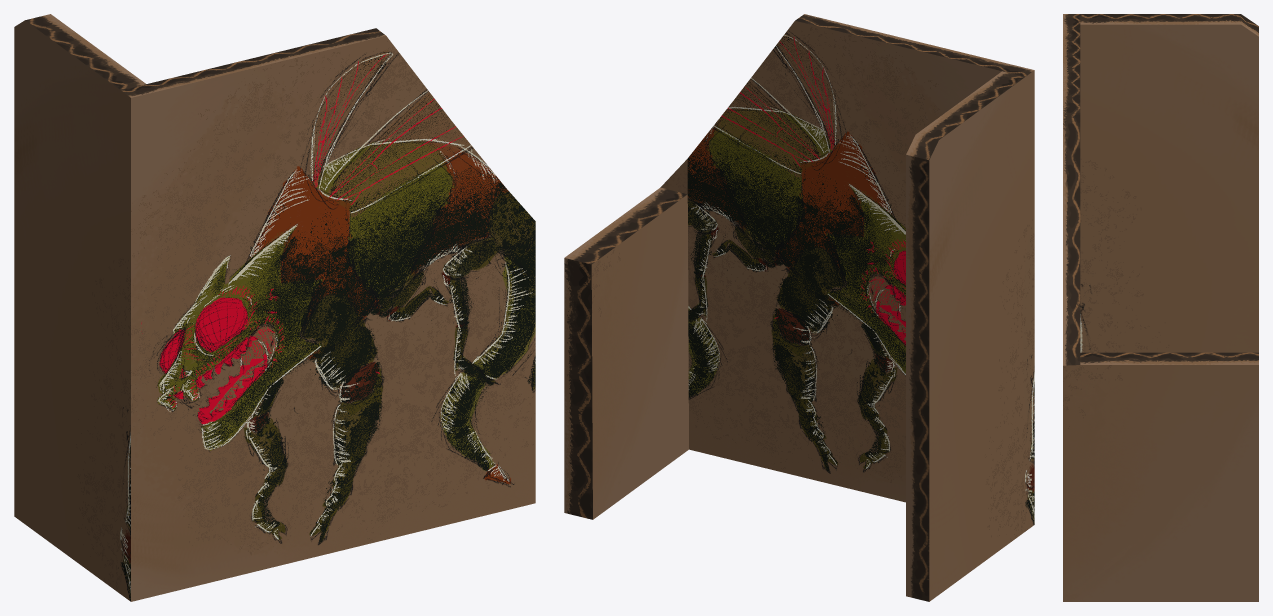
File: ADHouseBox.fbx
3 views of the same model, side by side, from view 1: azimuth 30°, elevation 25°; view 2: azimuth 150°, elevation 25°; view 3: azimuth 270°, elevation 25° (orthographic). The views are drawn at different scales.
Parts seen in each view (by area): view 1: ADHouse; view 2: ADHouse; view 3: ADHouse.
Boxes of the visible parts, box(x1,y1,x2,y2) form: ADHouse: box(14, 14, 535, 601); ADHouse: box(564, 14, 1034, 601); ADHouse: box(1063, 14, 1258, 601).
Bounding box in the file's own units: 4 × 4.76 × 2.
